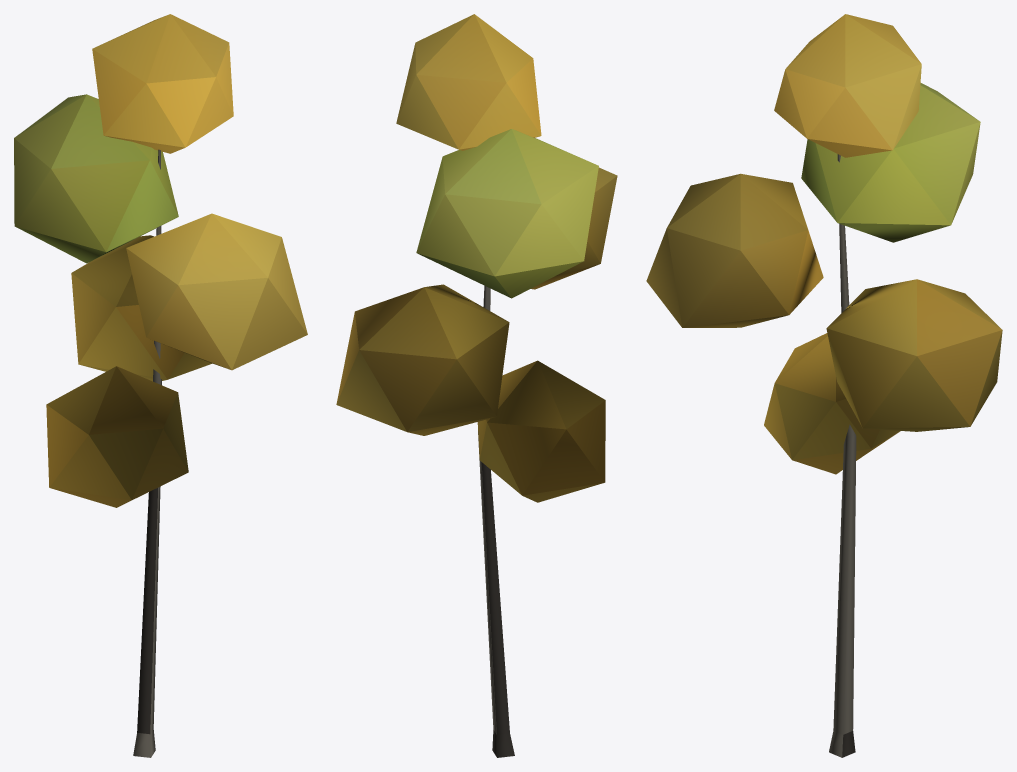
The model's file is birch_lod1.glb.
3 views of the same model, side by side, from view 1: azimuth 30°, elevation 25°; view 2: azimuth 150°, elevation 25°; view 3: azimuth 270°, elevation 25° (orthographic). The views are drawn at different scales.
Visible parts, largest first — view 1: birch_lod1; view 2: birch_lod1; view 3: birch_lod1.
Part boxes in pixels (<box>): birch_lod1: <box>14,14,307,757</box>; birch_lod1: <box>336,14,617,757</box>; birch_lod1: <box>646,14,1002,757</box>.
Bounding box in the file's own units: 3.66 × 11.77 × 5.05.
